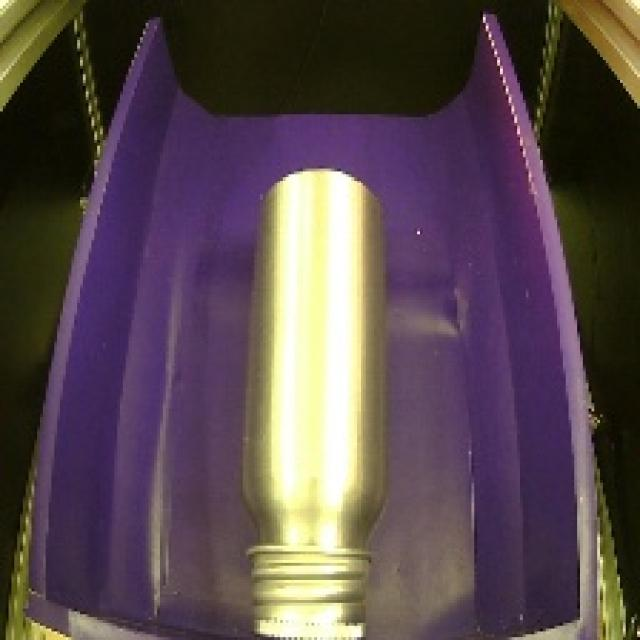metal: (230, 155, 397, 640)
